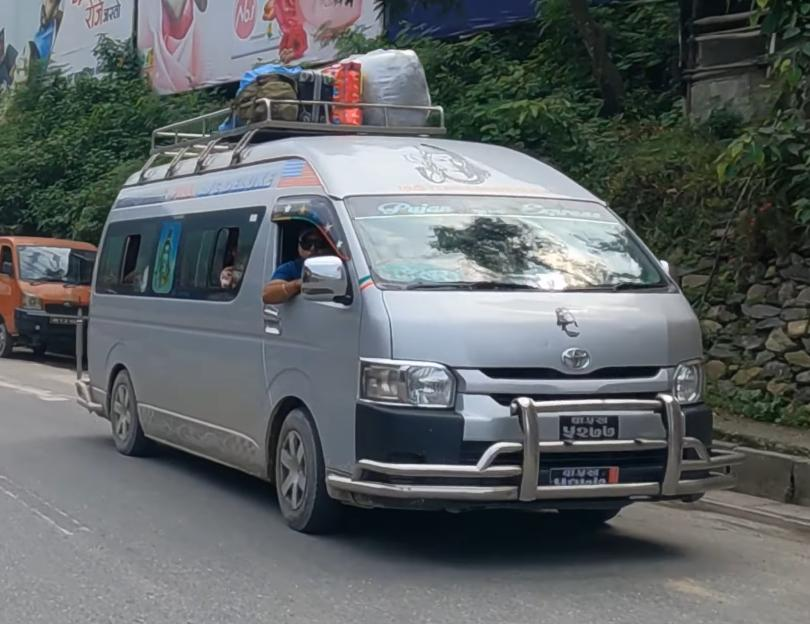micro_bus: (73, 92, 734, 542)
